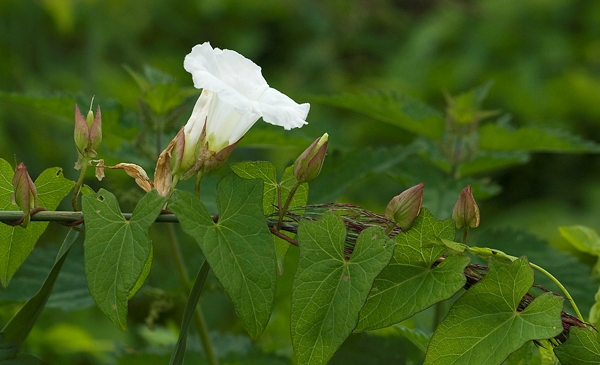haagwinde: (164, 172, 287, 344), (420, 241, 565, 365), (287, 206, 400, 365), (71, 180, 165, 342), (59, 92, 125, 157), (283, 115, 340, 187), (374, 165, 434, 231), (450, 180, 481, 232)
